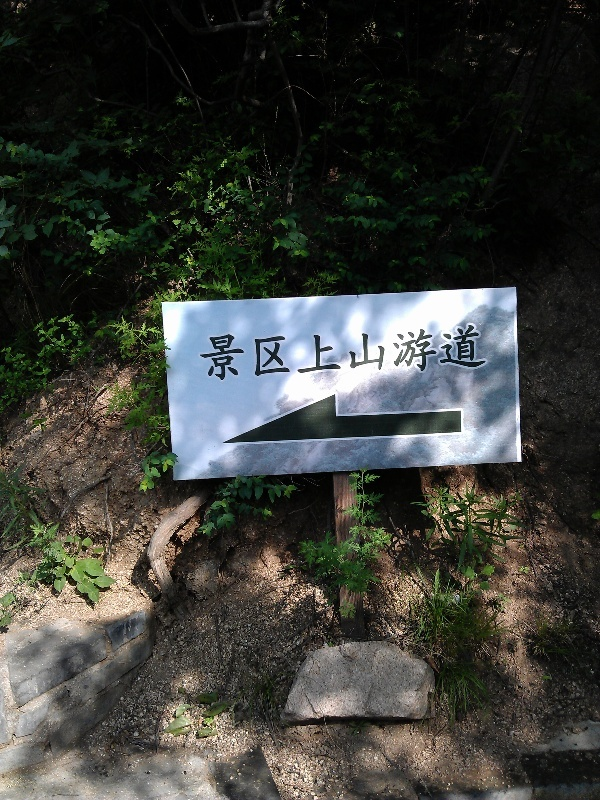text: (209, 322, 224, 384), (225, 322, 240, 384), (241, 322, 256, 384), (257, 322, 272, 384), (273, 322, 288, 384), (289, 322, 304, 384), (305, 322, 320, 384), (321, 322, 336, 384), (337, 322, 352, 384), (353, 322, 368, 384), (369, 322, 384, 384), (385, 322, 400, 384), (401, 322, 416, 384), (417, 322, 432, 384), (433, 322, 448, 384), (449, 322, 464, 384), (465, 322, 480, 384), (198, 322, 208, 384), (481, 322, 490, 384)
